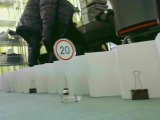speed_20: (53, 39, 77, 62)
